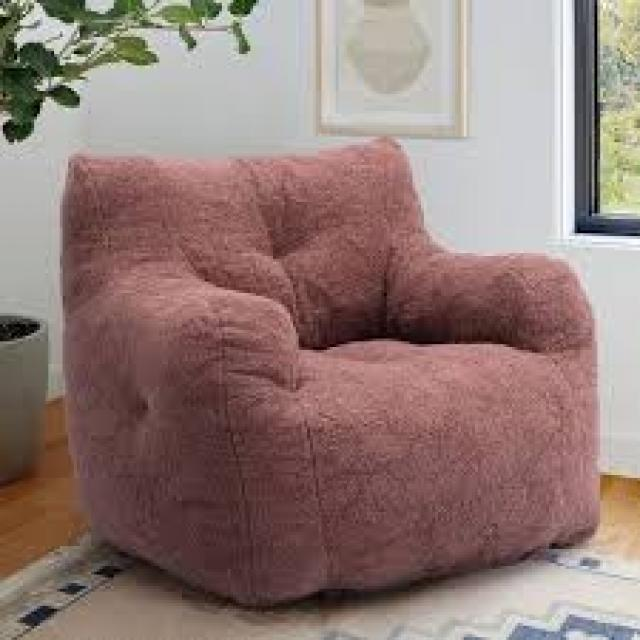chair: (60, 139, 604, 605)
